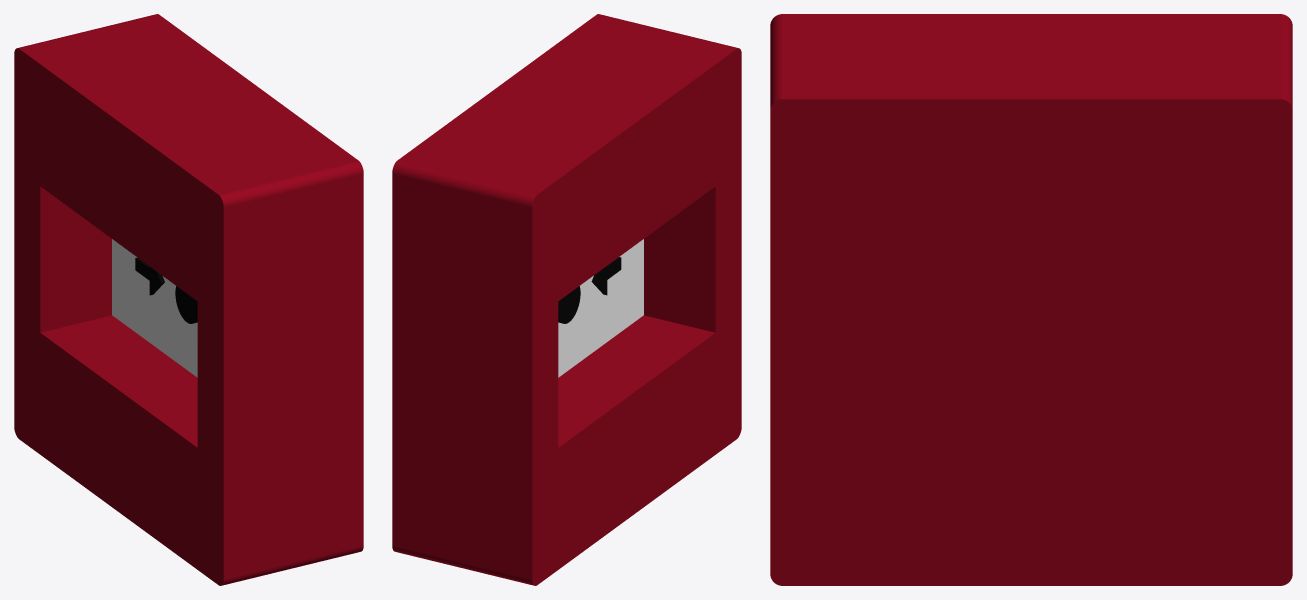
File: Brandalarm.fbx
The picture shows the model from 3 angles, left to right: view 1: azimuth 30°, elevation 25°; view 2: azimuth 150°, elevation 25°; view 3: azimuth 270°, elevation 25°; orthographic projection. The views are drawn at different scales.
Parts seen in each view (by area): view 1: Cube, Cube.001, Cylinder; view 2: Cube, Cube.001, Cylinder; view 3: Cube.
Part boxes in pixels (left/top/right/bottom): Cube: left=14, top=14, right=363, bottom=585; Cube.001: left=112, top=239, right=197, bottom=377; Cylinder: left=175, top=286, right=197, bottom=323; Cube: left=392, top=14, right=741, bottom=585; Cube.001: left=558, top=239, right=643, bottom=377; Cylinder: left=558, top=286, right=580, bottom=323; Cube: left=770, top=14, right=1292, bottom=585.
Size of the model in its own units: 77.21 by 206 by 200.
